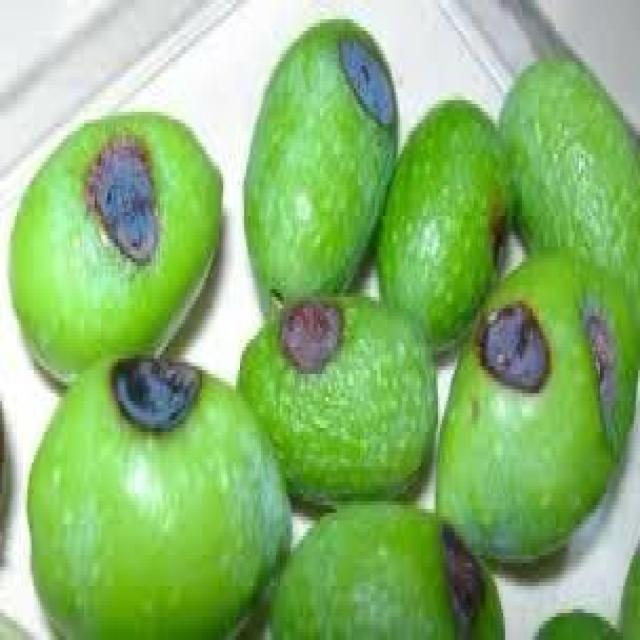Anthracnose: (32, 355, 272, 636), (438, 250, 636, 556), (8, 111, 221, 382), (244, 19, 396, 308), (236, 297, 436, 509), (378, 100, 509, 351)
